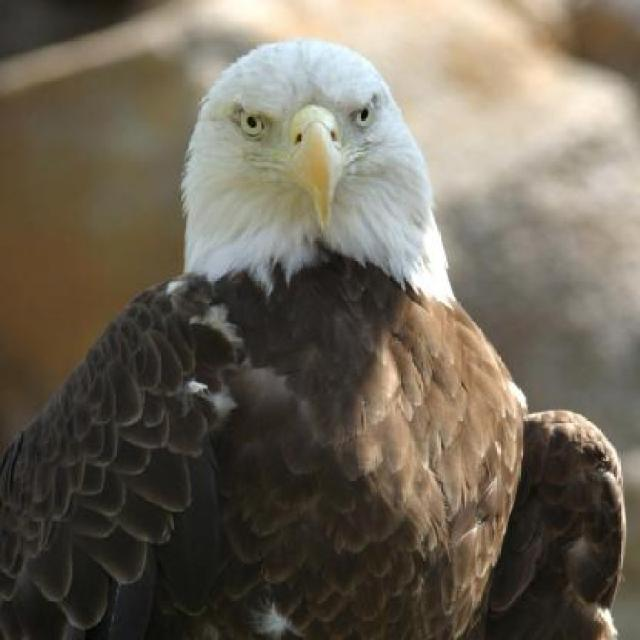Eagle: (5, 34, 615, 640)
